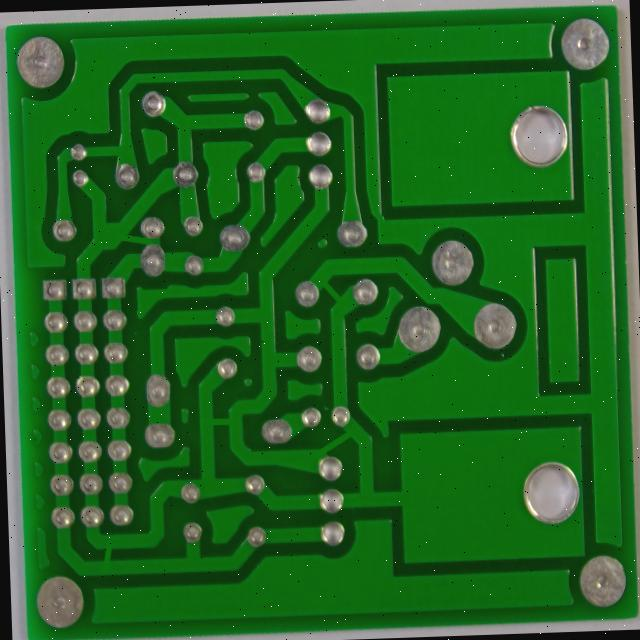short: (45, 242, 113, 302), (271, 478, 332, 539), (271, 309, 321, 360), (145, 461, 202, 504), (30, 606, 65, 639)
